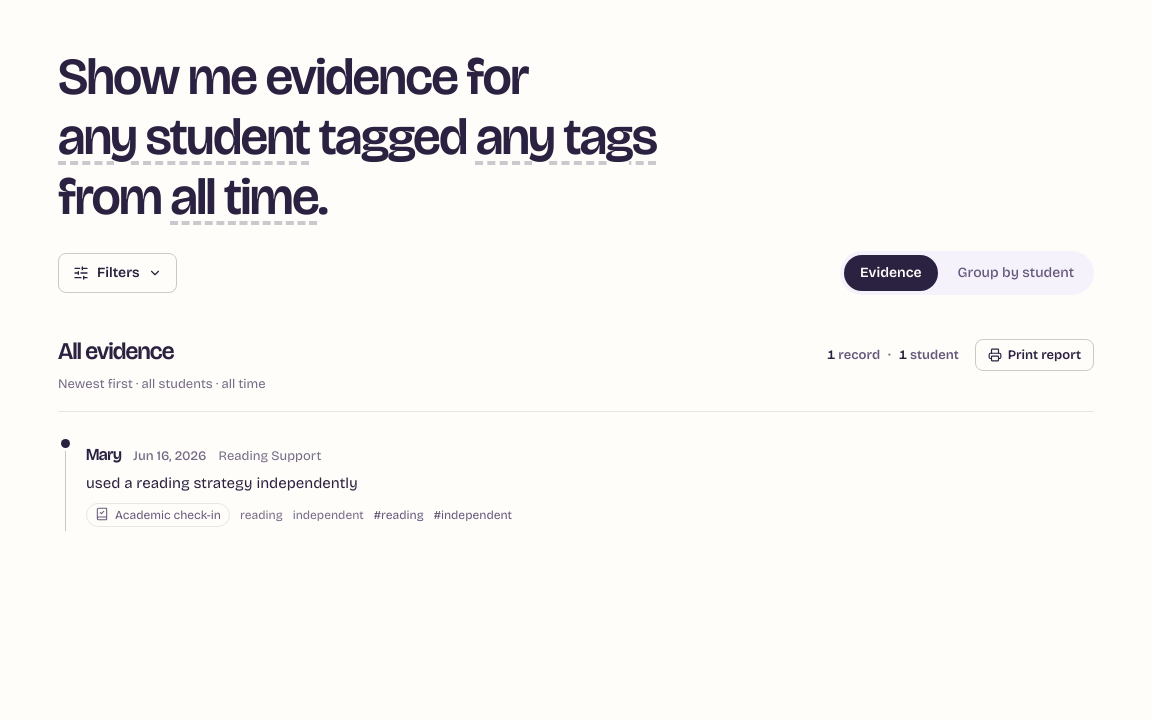
Test: ExploreEvidencePage › reveals all available filters without running a query
Click the button "Filters": (117, 273) [58,253,177,293]
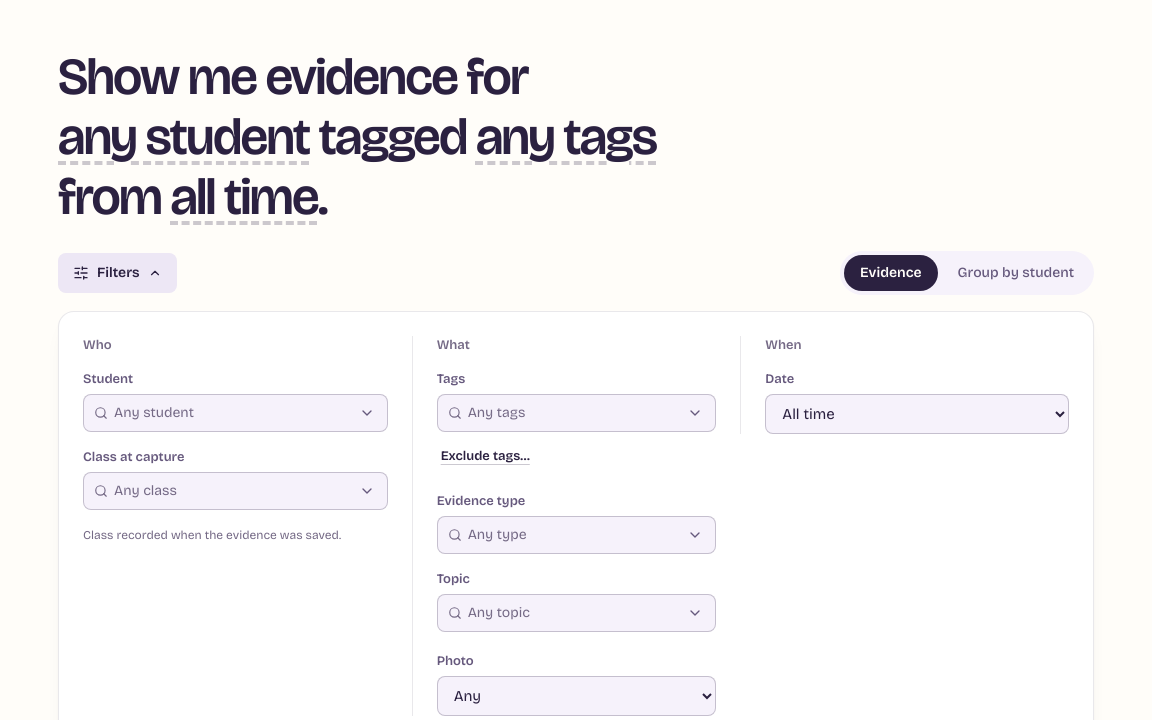
Check: the dropdown labelled "Student" is shown, box [114,397,343,429]
Check: the dropdown labelled "Tags" is shown, box [468,397,671,429]
Check: the dropdown labelled "Class at capture" is shown, box [114,475,343,507]
